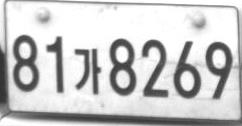1: (44, 36, 72, 93)
2: (141, 38, 169, 98)
6: (173, 40, 202, 99)
8: (11, 34, 40, 93), (109, 38, 137, 96)
9: (204, 41, 233, 99)
가: (74, 47, 101, 94)
